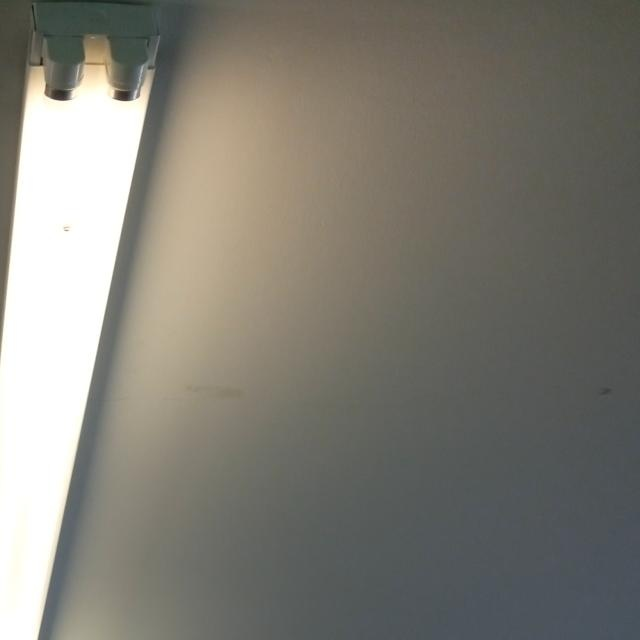fluorescent tube: (0, 0, 183, 640)
